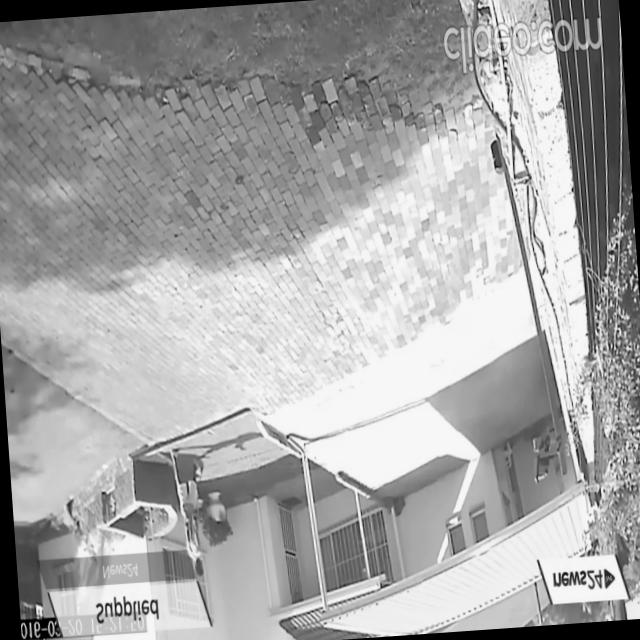weapon: (168, 443, 220, 580)
